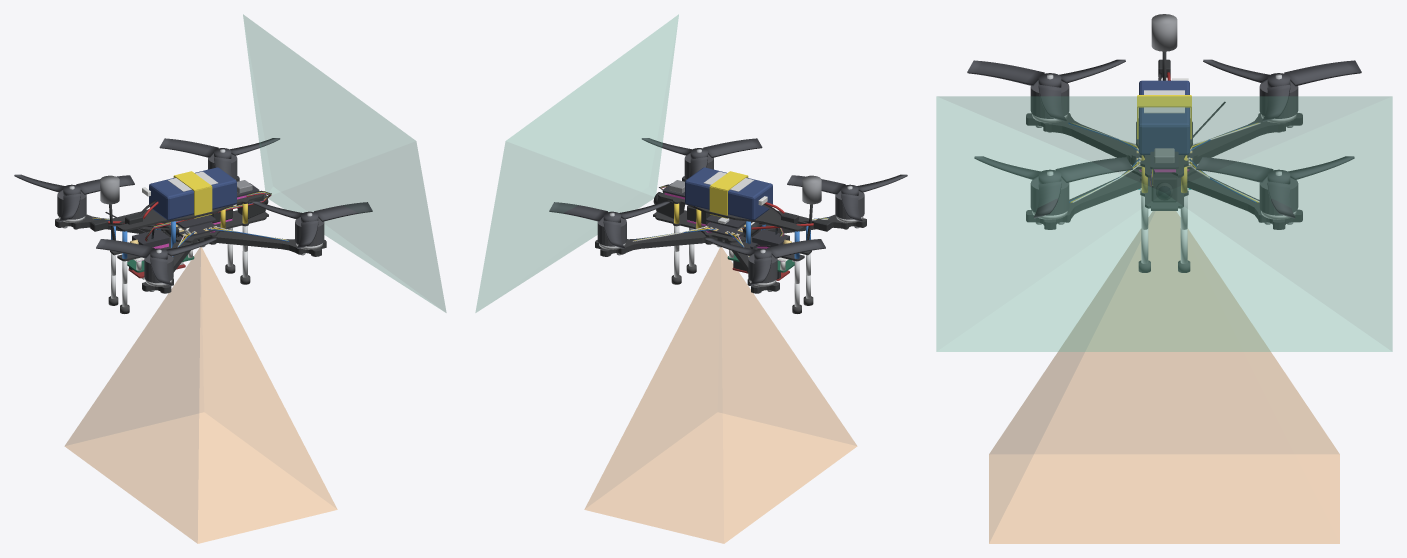
The model's file is final-product.glb.
3 renders of one model, left to right at view 1: azimuth 30°, elevation 25°; view 2: azimuth 150°, elevation 25°; view 3: azimuth 270°, elevation 25°, orthographic. The views are drawn at different scales.
Visible parts, largest first — view 1: cone_thermal, cone_pilot, battery_pack, prop_M1_blades, prop_M2_blades, prop_M4_blades, frame_arm_M2, prop_M3_blades, frame_top_plate, frame_middle_plate, antenna_triumph_head; view 2: cone_thermal, cone_pilot, battery_pack, prop_M3_blades, prop_M4_blades, prop_M2_blades, frame_arm_M4, prop_M1_blades, frame_top_plate, frame_middle_plate, antenna_triumph_head; view 3: cone_pilot, cone_thermal, battery_pack, prop_M1_blades, prop_M3_blades, prop_M2_blades, prop_M4_blades, frame_arm_M2, frame_arm_M4, frame_arm_M1, frame_arm_M3, antenna_triumph_head (+6 smaller).
Part boxes in pixels (<box>): cone_thermal: <box>65,247,337,543</box>; cone_pilot: <box>243,14,446,312</box>; battery_pack: <box>149,167,236,220</box>; prop_M1_blades: <box>96,238,216,285</box>; prop_M2_blades: <box>252,201,372,248</box>; prop_M4_blades: <box>159,138,280,176</box>; frame_arm_M2: <box>204,231,326,256</box>; prop_M3_blades: <box>14,174,134,221</box>; frame_top_plate: <box>112,194,263,231</box>; frame_middle_plate: <box>161,210,268,242</box>; antenna_triumph_head: <box>100,175,119,204</box>; cone_thermal: <box>584,247,856,543</box>; cone_pilot: <box>475,14,678,312</box>; battery_pack: <box>685,167,772,220</box>; prop_M3_blades: <box>705,238,825,285</box>; prop_M4_blades: <box>549,201,669,248</box>; prop_M2_blades: <box>641,138,762,176</box>; frame_arm_M4: <box>595,231,717,256</box>; prop_M1_blades: <box>787,174,907,221</box>; frame_top_plate: <box>658,194,809,231</box>; frame_middle_plate: <box>653,210,760,242</box>; antenna_triumph_head: <box>802,175,821,204</box>; cone_pilot: <box>936,96,1392,351</box>; cone_thermal: <box>989,211,1339,543</box>; battery_pack: <box>1139,80,1189,154</box>; prop_M1_blades: <box>967,59,1125,121</box>; prop_M3_blades: <box>1203,59,1361,121</box>; prop_M2_blades: <box>974,156,1132,218</box>; prop_M4_blades: <box>1196,156,1354,218</box>; frame_arm_M2: <box>1026,171,1141,229</box>; frame_arm_M4: <box>1187,172,1302,229</box>; frame_arm_M1: <box>1026,113,1135,165</box>; frame_arm_M3: <box>1193,113,1302,164</box>; antenna_triumph_head: <box>1151,14,1177,51</box>.
Size of the model in its own units: 0.3178 by 0.3972 by 0.3385.
